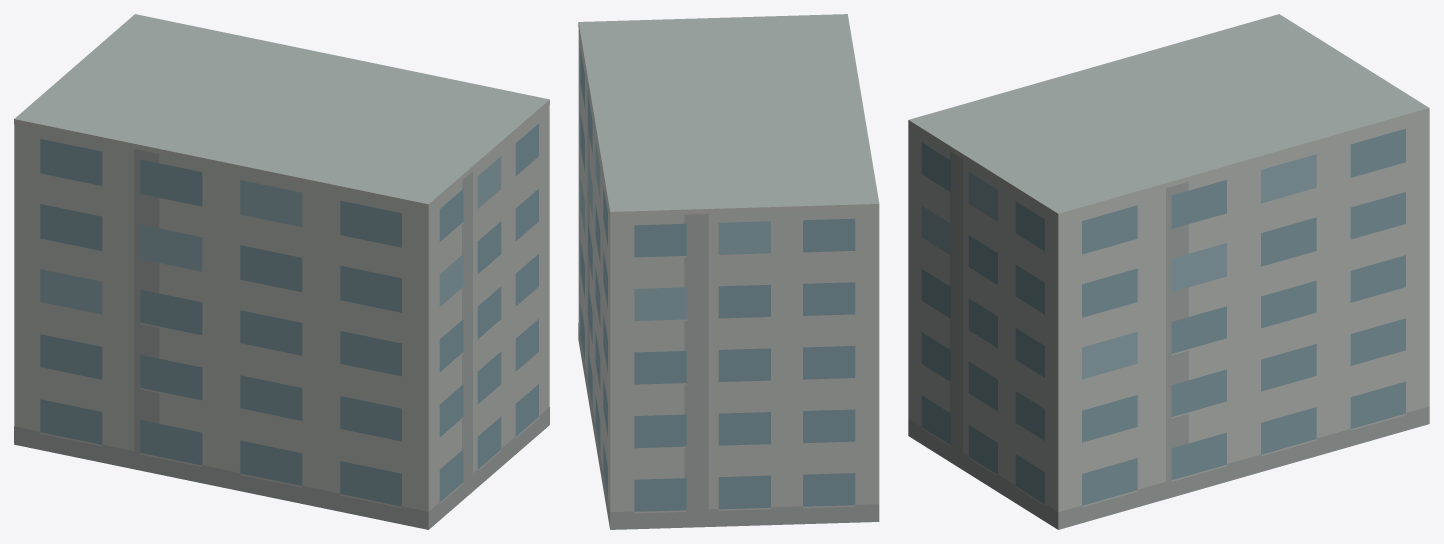
File: residential-cfec5812-e6ae-40a6-99b2-183bd2694eab.glb
The picture shows the model from 3 angles, left to right: view 1: azimuth 30°, elevation 25°; view 2: azimuth 150°, elevation 25°; view 3: azimuth 270°, elevation 25°; orthographic projection. The views are drawn at different scales.
Visible parts, largest first — view 1: residential-cfec5812-e6ae-40a6-99b2-183bd2694eab.tmp; view 2: residential-cfec5812-e6ae-40a6-99b2-183bd2694eab.tmp; view 3: residential-cfec5812-e6ae-40a6-99b2-183bd2694eab.tmp.
Boxes of the visible parts, x1=… form: residential-cfec5812-e6ae-40a6-99b2-183bd2694eab.tmp: x1=14, y1=14, x2=549, y2=529; residential-cfec5812-e6ae-40a6-99b2-183bd2694eab.tmp: x1=578, y1=14, x2=879, y2=529; residential-cfec5812-e6ae-40a6-99b2-183bd2694eab.tmp: x1=908, y1=14, x2=1429, y2=529.
Size of the model in its own units: 20.69 by 15.25 by 22.8.
